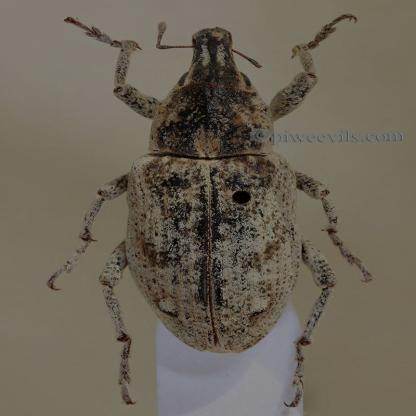rice-bug: (77, 12, 360, 404)
